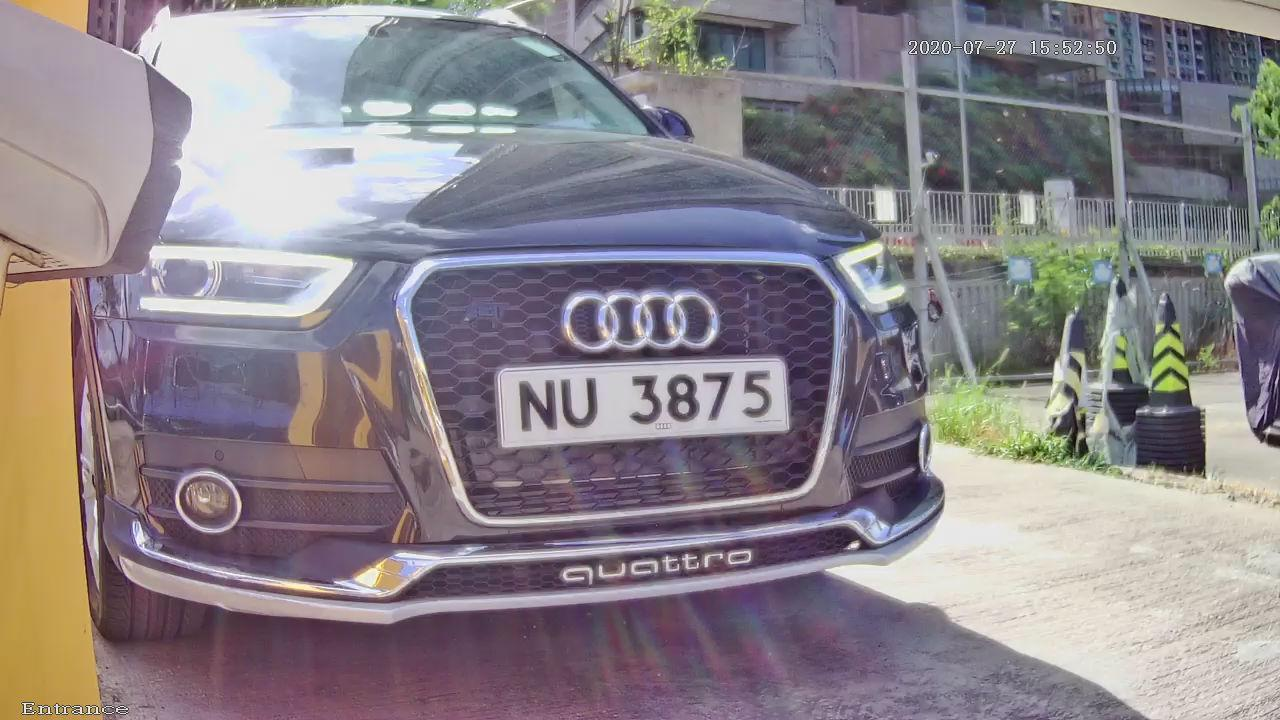privatecar: (58, 26, 989, 669)
